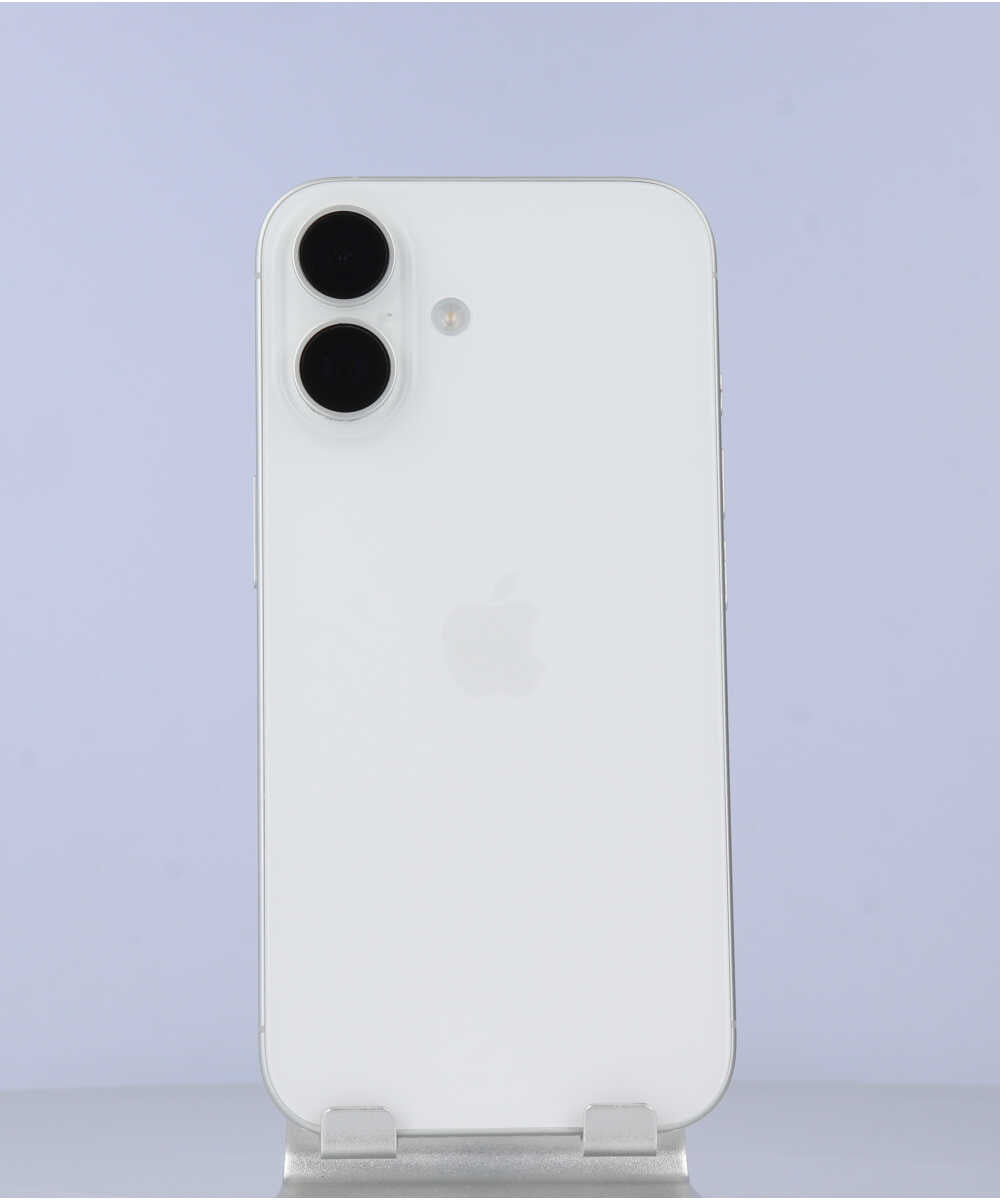iphone16_white: (228, 162, 766, 1150), (269, 194, 510, 429)
